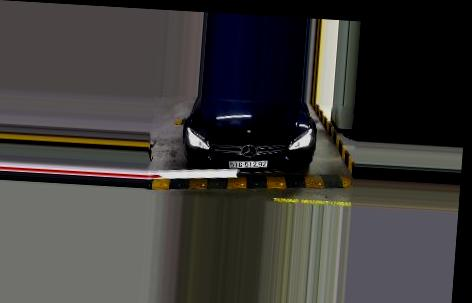License_Plate: (227, 157, 269, 171)
